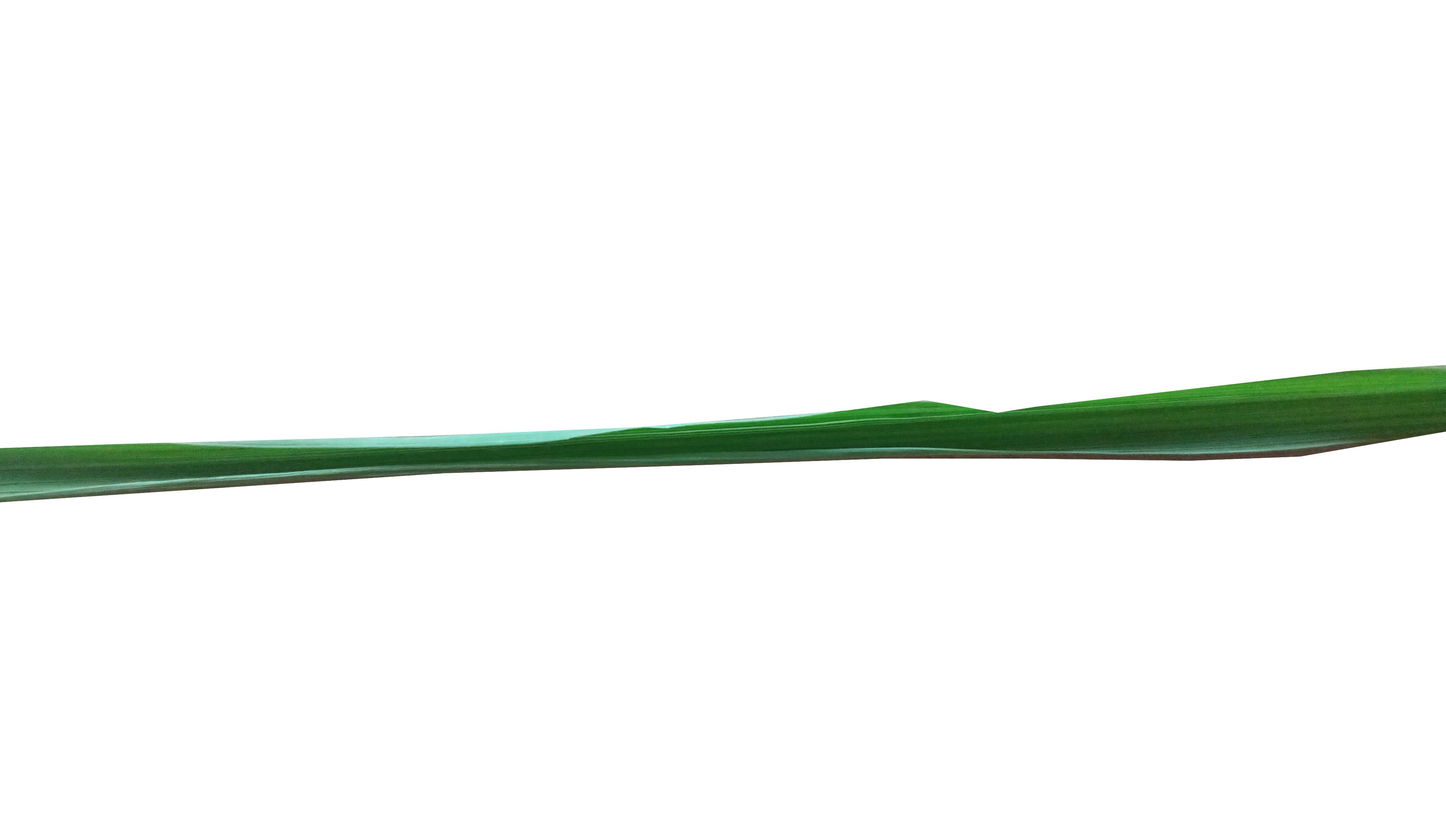Healthy: (0, 367, 1446, 505)
